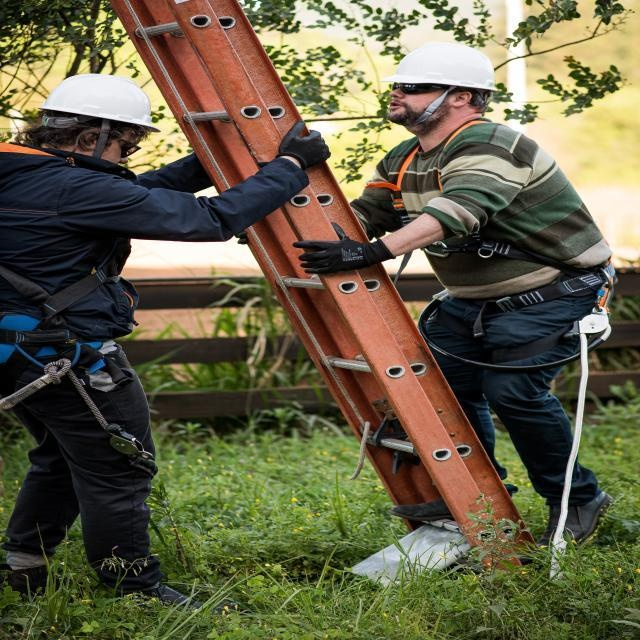Arnes_seguridad: (364, 117, 627, 368)
